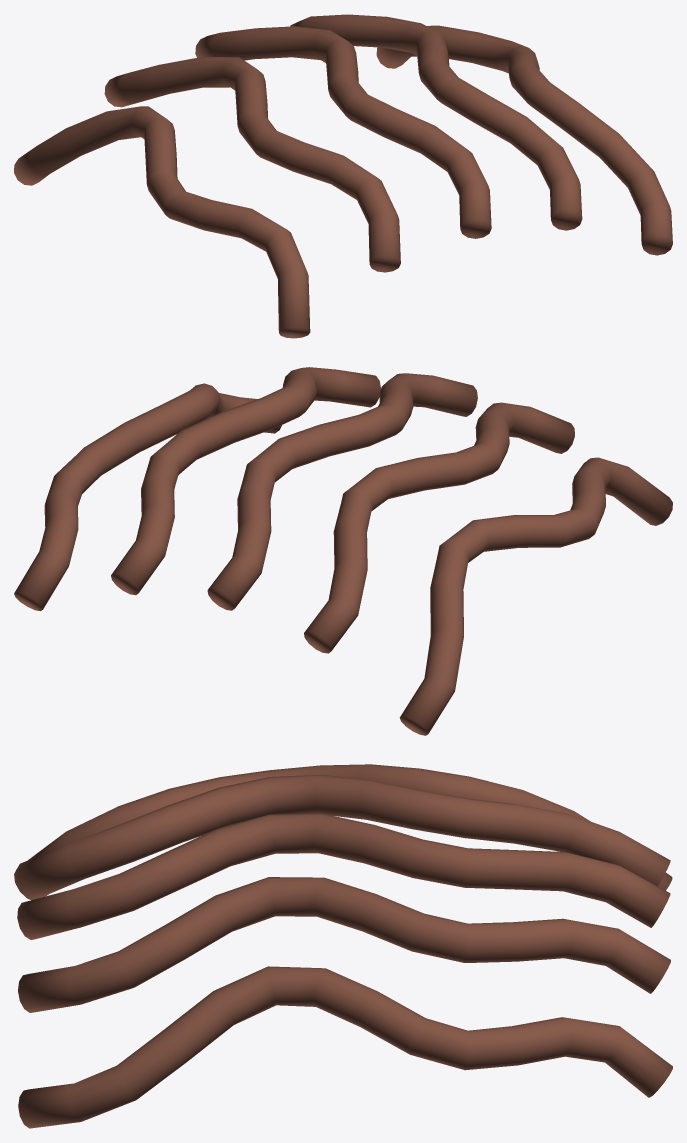
File: Chocolate_sauce_serving_layer.fbx
3 views of the same model, one above another, from view 1: azimuth 30°, elevation 25°; view 2: azimuth 150°, elevation 25°; view 3: azimuth 270°, elevation 25° (orthographic). The views are drawn at different scales.
Parts seen in each view (by area): view 1: Toon_Chocolate_sauce_serving_layer Sauce drizzle.005, Toon_Chocolate_sauce_serving_layer Sauce drizzle.006, Toon_Chocolate_sauce_serving_layer Sauce drizzle.007, Toon_Chocolate_sauce_serving_layer Sauce drizzle.008, Toon_Chocolate_sauce_serving_layer Sauce drizzle.009; view 2: Toon_Chocolate_sauce_serving_layer Sauce drizzle.005, Toon_Chocolate_sauce_serving_layer Sauce drizzle.006, Toon_Chocolate_sauce_serving_layer Sauce drizzle.007, Toon_Chocolate_sauce_serving_layer Sauce drizzle.008, Toon_Chocolate_sauce_serving_layer Sauce drizzle.009; view 3: Toon_Chocolate_sauce_serving_layer Sauce drizzle.009, Toon_Chocolate_sauce_serving_layer Sauce drizzle.008, Toon_Chocolate_sauce_serving_layer Sauce drizzle.007, Toon_Chocolate_sauce_serving_layer Sauce drizzle.006, Toon_Chocolate_sauce_serving_layer Sauce drizzle.005.
Part boxes in pixels (bbox=[...]): Toon_Chocolate_sauce_serving_layer Sauce drizzle.005: bbox=[14, 106, 310, 338]; Toon_Chocolate_sauce_serving_layer Sauce drizzle.006: bbox=[104, 56, 400, 272]; Toon_Chocolate_sauce_serving_layer Sauce drizzle.007: bbox=[195, 26, 491, 238]; Toon_Chocolate_sauce_serving_layer Sauce drizzle.008: bbox=[290, 14, 582, 230]; Toon_Chocolate_sauce_serving_layer Sauce drizzle.009: bbox=[376, 25, 672, 255]; Toon_Chocolate_sauce_serving_layer Sauce drizzle.005: bbox=[399, 457, 672, 735]; Toon_Chocolate_sauce_serving_layer Sauce drizzle.006: bbox=[304, 402, 574, 653]; Toon_Chocolate_sauce_serving_layer Sauce drizzle.007: bbox=[207, 373, 477, 610]; Toon_Chocolate_sauce_serving_layer Sauce drizzle.008: bbox=[111, 367, 380, 595]; Toon_Chocolate_sauce_serving_layer Sauce drizzle.009: bbox=[14, 383, 281, 611]; Toon_Chocolate_sauce_serving_layer Sauce drizzle.009: bbox=[18, 966, 672, 1128]; Toon_Chocolate_sauce_serving_layer Sauce drizzle.008: bbox=[18, 877, 670, 1012]; Toon_Chocolate_sauce_serving_layer Sauce drizzle.007: bbox=[17, 813, 670, 939]; Toon_Chocolate_sauce_serving_layer Sauce drizzle.006: bbox=[16, 774, 670, 899]; Toon_Chocolate_sauce_serving_layer Sauce drizzle.005: bbox=[14, 764, 672, 899].
Size of the model in its own units: 7.66 by 2.72 by 7.93.
